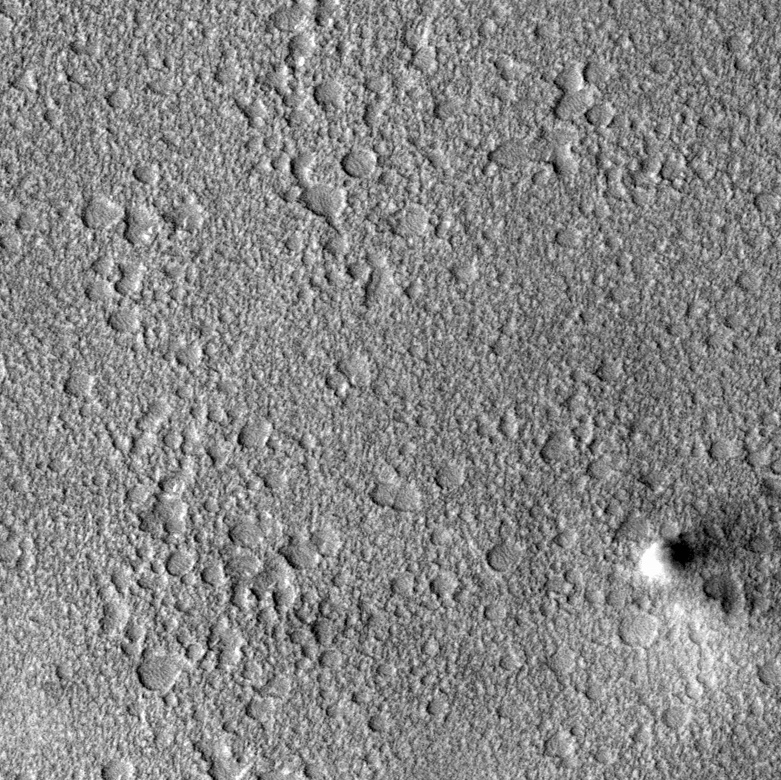dust_devil: (637, 489, 781, 580)
